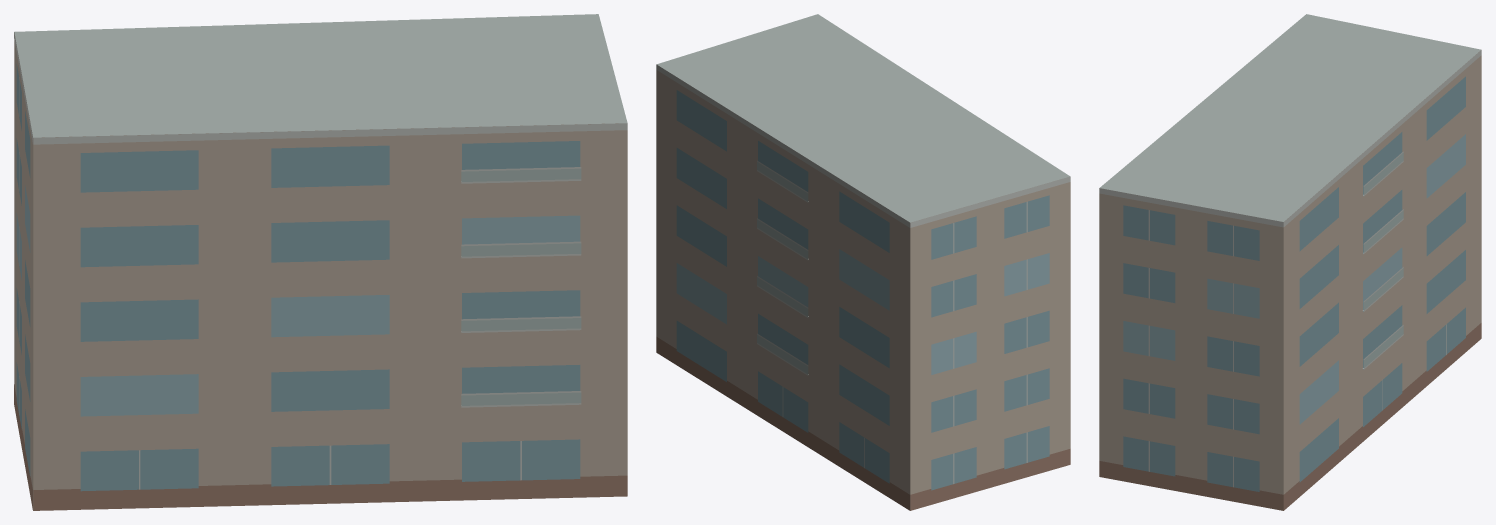
Rendered from survey-upis-32964522.glb.
3 views of the same model, side by side, from view 1: azimuth 30°, elevation 25°; view 2: azimuth 150°, elevation 25°; view 3: azimuth 270°, elevation 25° (orthographic). The views are drawn at different scales.
Parts seen in each view (by area): view 1: survey-upis-32964522.tmp; view 2: survey-upis-32964522.tmp; view 3: survey-upis-32964522.tmp.
Part boxes in pixels (<box>): survey-upis-32964522.tmp: <box>14,14,627,510</box>; survey-upis-32964522.tmp: <box>656,14,1070,510</box>; survey-upis-32964522.tmp: <box>1099,14,1481,510</box>.
Bounding box in the file's own units: 20.09 × 13 × 15.6.
